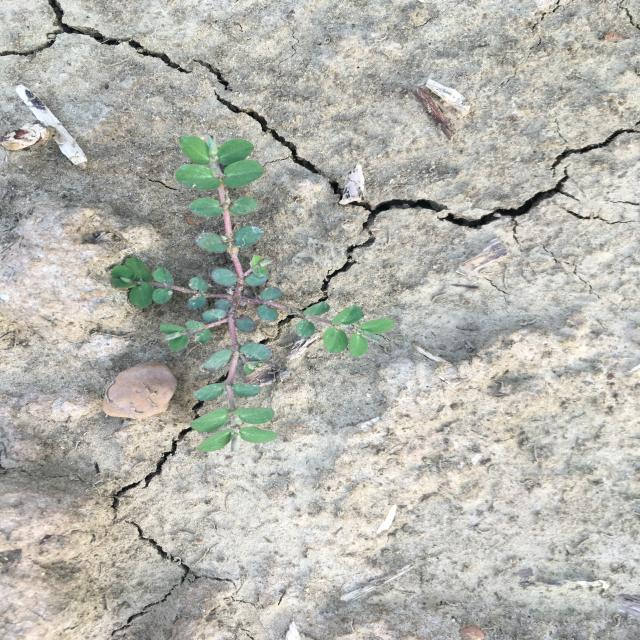SpottedSpurge: (108, 126, 398, 456)
